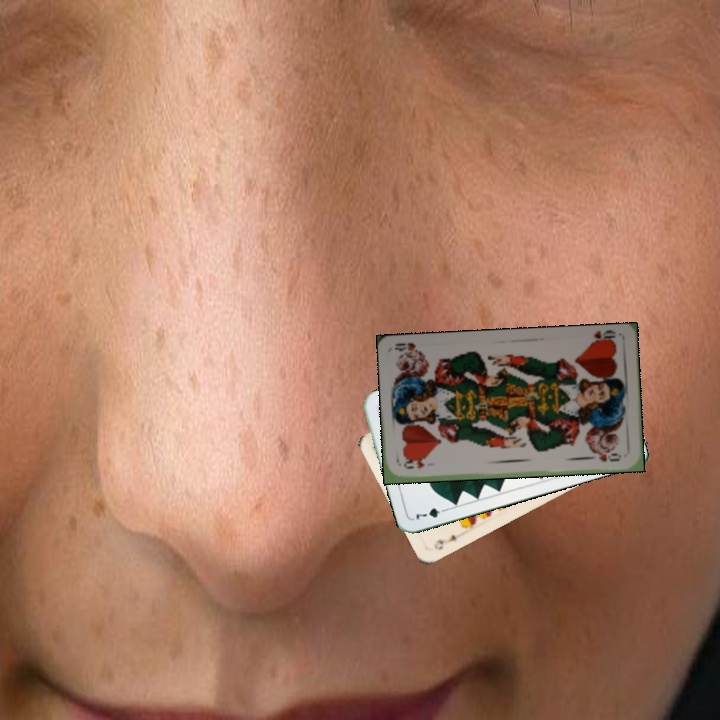E9: (430, 531, 459, 553)
G7: (412, 504, 451, 522)
HO: (583, 327, 619, 348), (400, 458, 427, 472)
